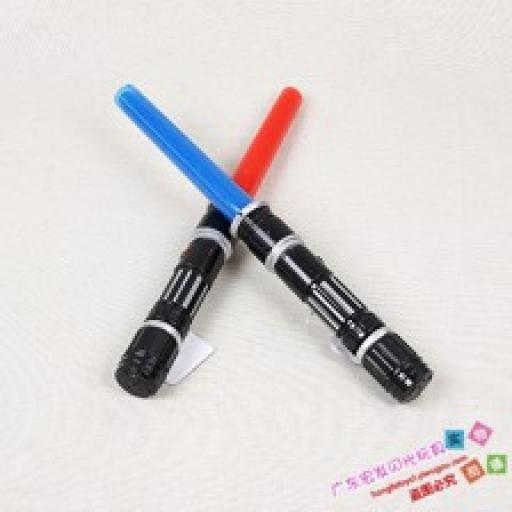lightsaber: (115, 84, 434, 400), (113, 86, 301, 398)
